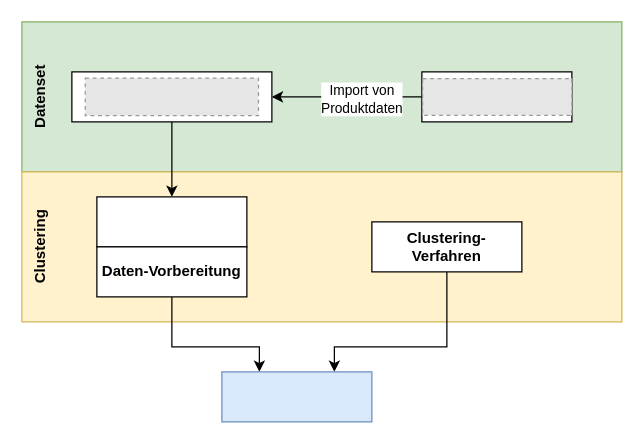
This 644x444 diagram has some shape labels left out. Grey dashed boxes stand in for pictures. The box of each missing label's shape, as (x1, y1, x2, y2) in pixels:
Datenzugriff: (96, 196, 247, 247)
Evaluation: (221, 371, 372, 422)
